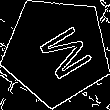M_SW: (24, 18, 89, 84)
